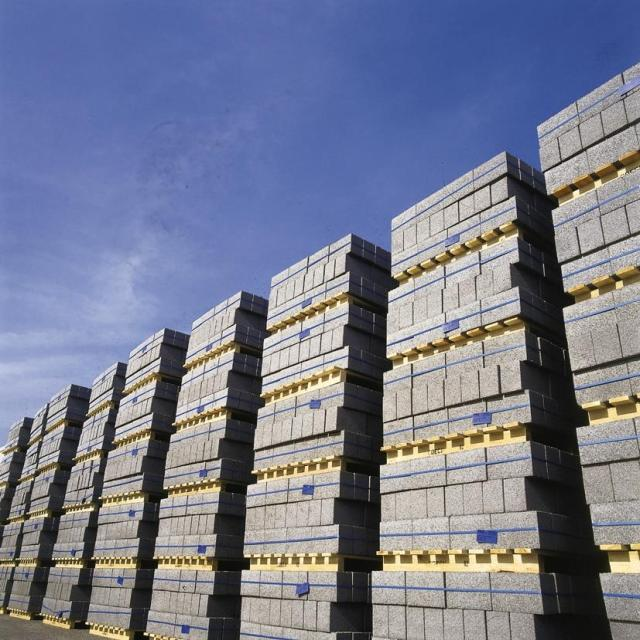bricks: (371, 153, 598, 639), (241, 235, 389, 639), (539, 64, 639, 572), (146, 292, 267, 639), (88, 329, 188, 639), (602, 579, 639, 639)
